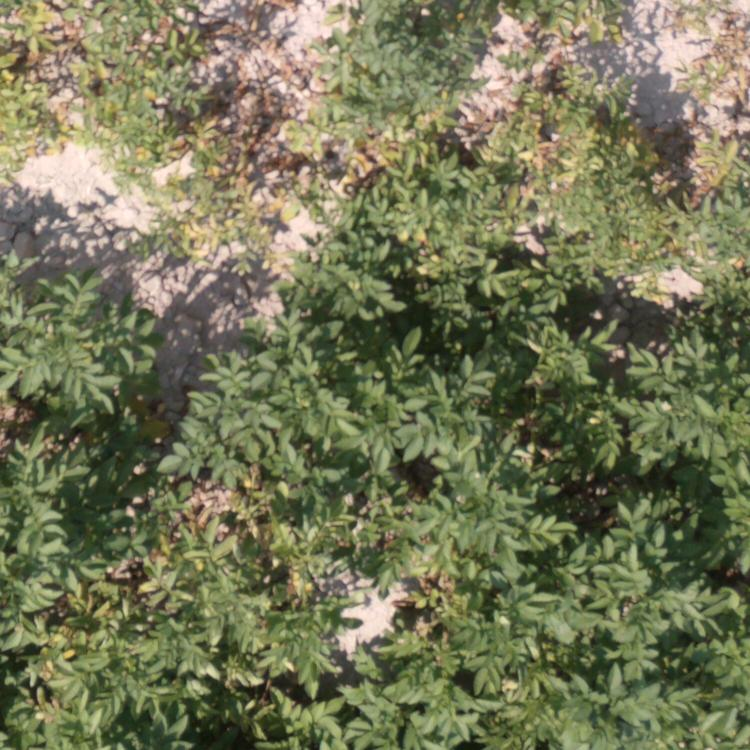healthy: (1, 445, 180, 750), (482, 320, 743, 511), (363, 512, 564, 745), (185, 351, 467, 500), (581, 521, 750, 747), (204, 514, 330, 744), (1, 245, 138, 436), (301, 221, 464, 340)
stressed: (465, 61, 677, 315), (292, 1, 461, 204), (162, 44, 287, 294), (678, 1, 744, 299), (72, 1, 157, 174), (1, 1, 66, 182), (495, 1, 632, 54)
